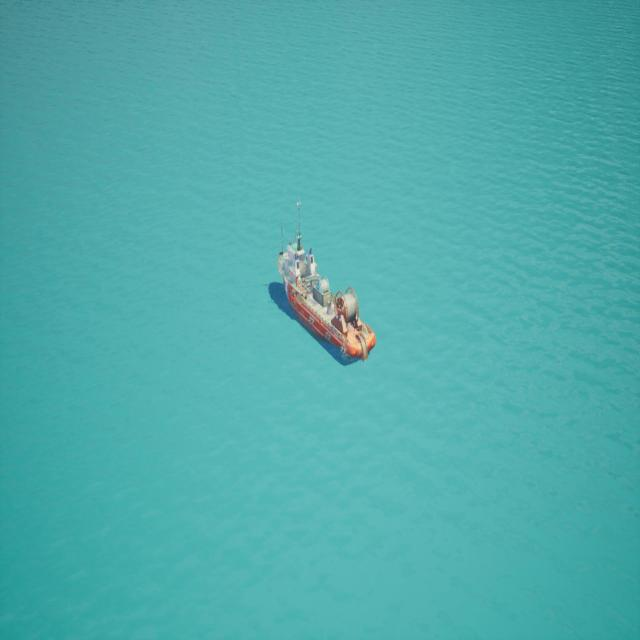tug boat: (272, 201, 362, 367)
